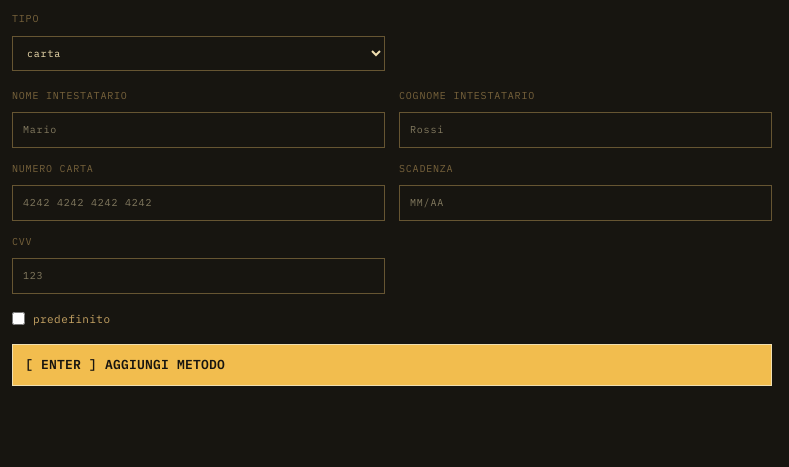
Test case: PaymentMethodForm › non invia una carta incompleta
The width and height of the screenshot is (789, 467).
Step 1. Click the button "[ enter ] aggiungi metodo" → (125, 365), box x1=12 y1=344 x2=772 y2=386
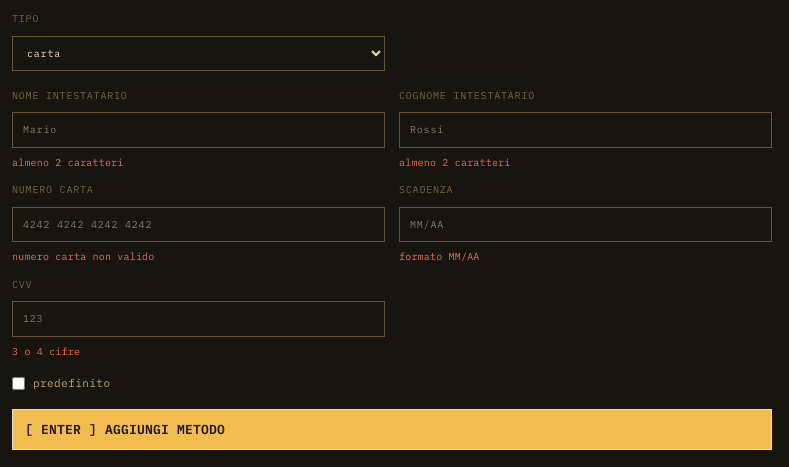
Expected: the text "numero carta non valido" is shown, x1=12 y1=250 x2=154 y2=263
